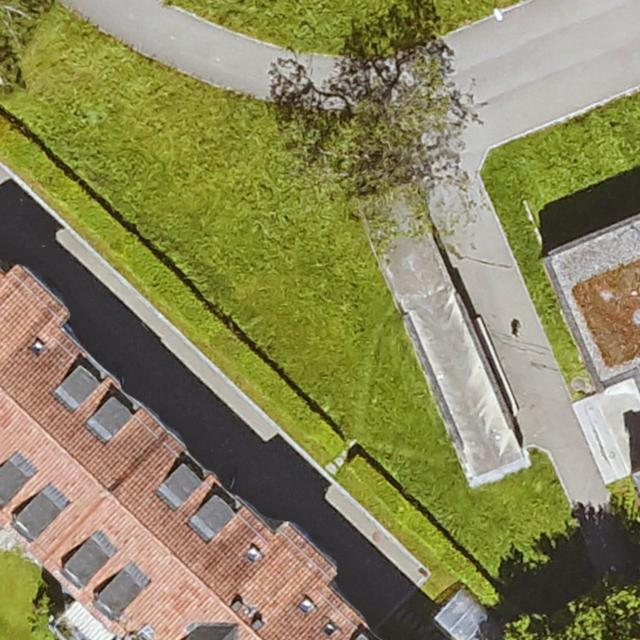tree: (279, 30, 467, 226), (509, 593, 640, 640), (0, 0, 57, 95)
